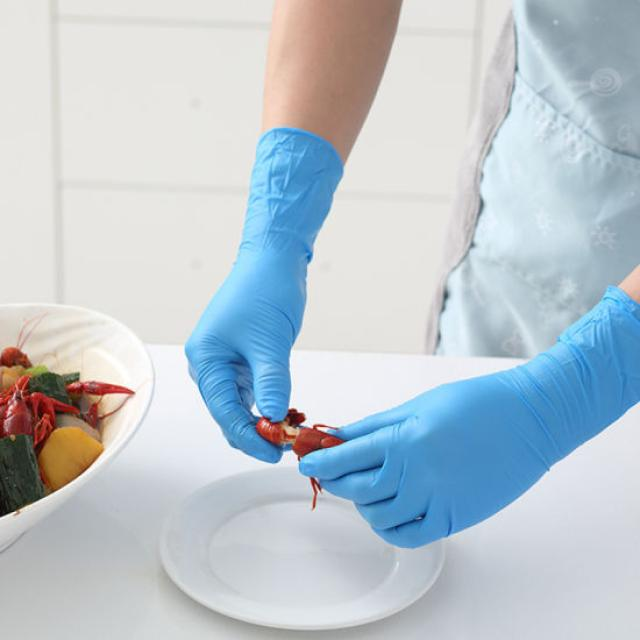gloves: (305, 286, 640, 545), (188, 128, 344, 460)
